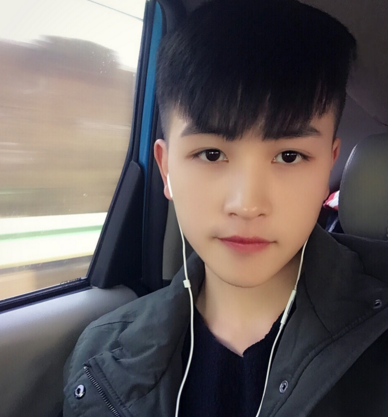person: (104, 16, 360, 360)
